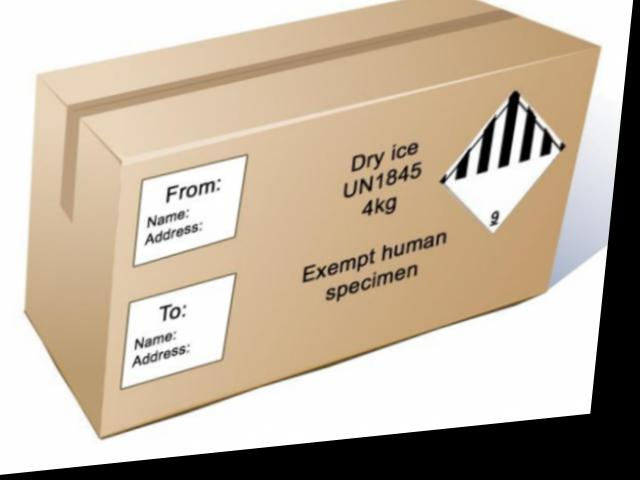label: (121, 275, 235, 389), (135, 155, 246, 270)
package: (25, 0, 601, 439)
